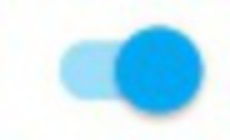Switch: (1, 1, 229, 139)
